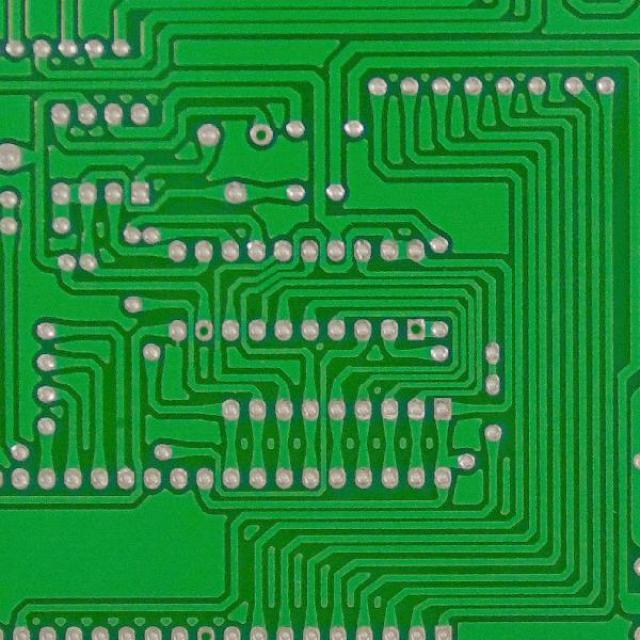Missing_Hole: (248, 123, 276, 148), (403, 316, 428, 342), (194, 317, 215, 341), (193, 624, 219, 639)
